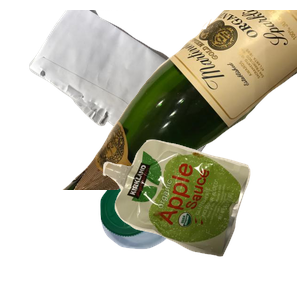glass: (60, 10, 300, 190)
paper: (27, 10, 252, 187)
plastic: (98, 176, 266, 300)
trash: (100, 137, 300, 300)
